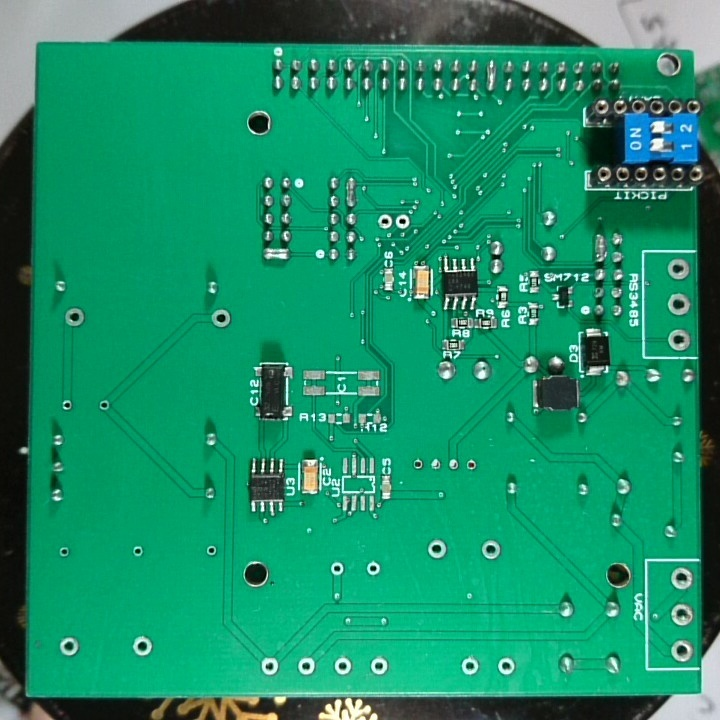F: (665, 326, 693, 355), (665, 291, 693, 318), (669, 602, 697, 629), (669, 565, 695, 592), (666, 256, 691, 283), (57, 633, 82, 660), (669, 638, 695, 663), (62, 304, 87, 330), (130, 634, 155, 660), (425, 536, 450, 562), (332, 655, 356, 680), (479, 538, 502, 564), (494, 654, 518, 678), (209, 306, 232, 331), (258, 654, 282, 677), (459, 655, 482, 678), (295, 656, 319, 678), (369, 655, 390, 679), (364, 558, 383, 580), (375, 212, 394, 231), (328, 560, 348, 578), (394, 211, 411, 232), (445, 454, 461, 475), (463, 455, 477, 475), (59, 397, 75, 414), (428, 455, 442, 474), (204, 543, 219, 560), (97, 396, 111, 414), (411, 455, 425, 473), (57, 544, 72, 560), (130, 544, 145, 559)
P: (591, 229, 608, 263), (260, 245, 292, 263), (343, 173, 359, 209), (485, 58, 497, 93)
